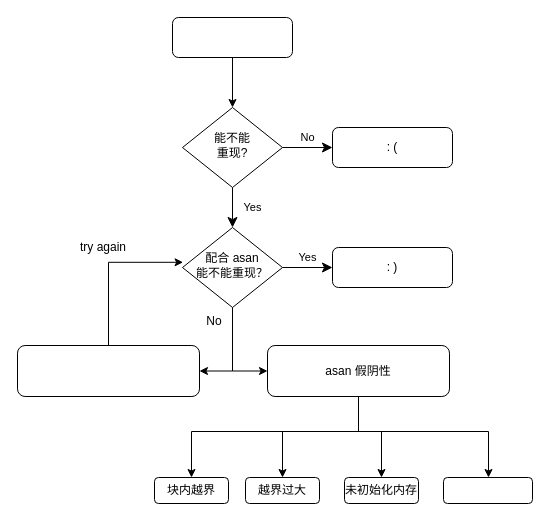
This 550x521 diagram has some shape labels left out. The box of each missing label's shape, as (x1, y1, x2, y2) in pixels:
修改 asan 参数 quarantine_size_mb redzone/max_redzone: (16, 344, 200, 396)
处理内存 crash: (172, 16, 292, 58)
多线程未同步: (442, 476, 532, 504)
